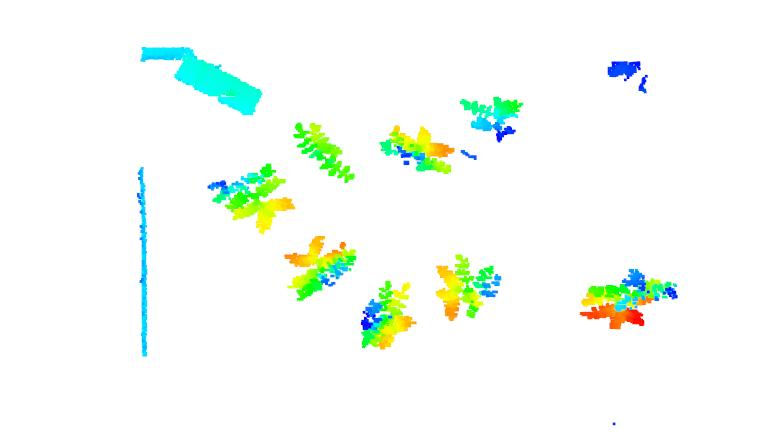chickpea: (207, 161, 297, 235), (578, 267, 679, 331), (281, 234, 356, 305), (432, 254, 503, 321), (359, 280, 419, 351), (292, 120, 354, 183), (380, 123, 453, 171), (457, 94, 526, 142)
